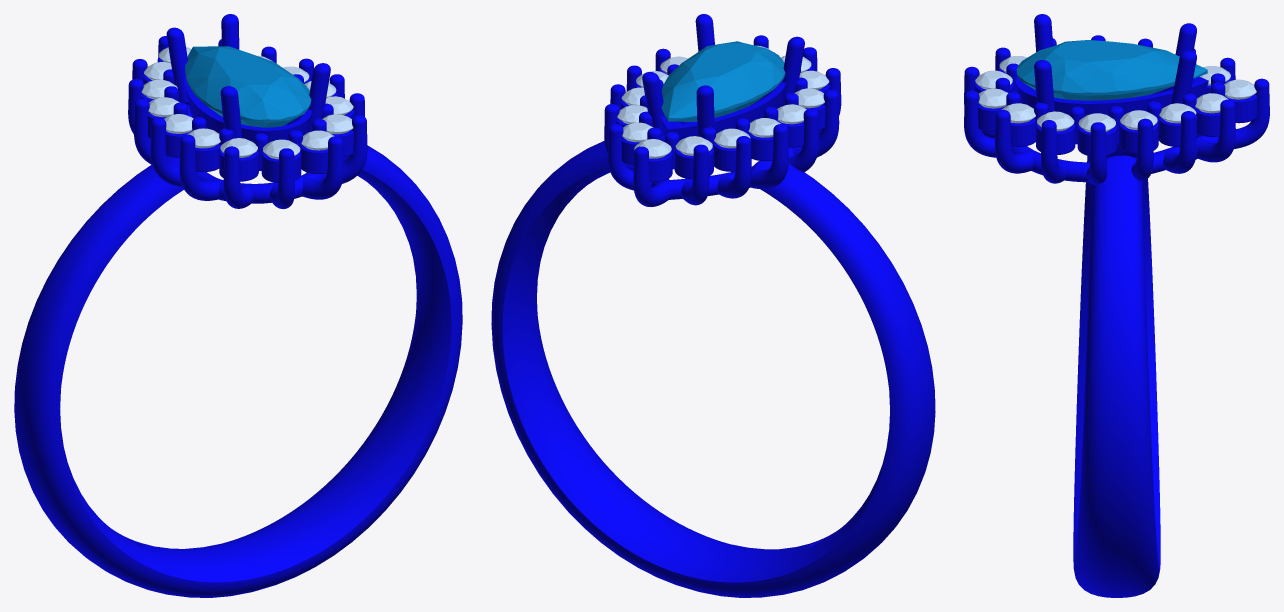
3 renders of one model, left to right at view 1: azimuth 30°, elevation 25°; view 2: azimuth 150°, elevation 25°; view 3: azimuth 270°, elevation 25°, orthographic.
Visible parts, largest first — view 1: teste render 12-07-24.3dm, Diamond_Pear, Head Prong (×4), Head Rail; view 2: teste render 12-07-24.3dm, Diamond_Pear, Head Prong (×3), Head Rail; view 3: teste render 12-07-24.3dm, Diamond_Pear, Diamond_Round (×9), Head Prong (×4), Head Rail.
Boxes of the visible parts, box(x1,y1,x2,y2) form: teste render 12-07-24.3dm: box(14, 36, 462, 597); Diamond_Pear: box(185, 46, 311, 127); Head Prong (×4): box(166, 14, 330, 138); Head Rail: box(184, 76, 312, 142); teste render 12-07-24.3dm: box(491, 35, 935, 597); Diamond_Pear: box(661, 41, 785, 121); Head Prong (×3): box(642, 36, 804, 136); Head Rail: box(661, 81, 785, 140); teste render 12-07-24.3dm: box(964, 35, 1269, 597); Diamond_Pear: box(1016, 40, 1207, 100); Diamond_Round (×9): box(975, 70, 1256, 132); Head Prong (×4): box(1034, 14, 1196, 112); Head Rail: box(1015, 76, 1208, 116).
Size of the model in its own units: 2.4 by 2.84 by 1.47.
